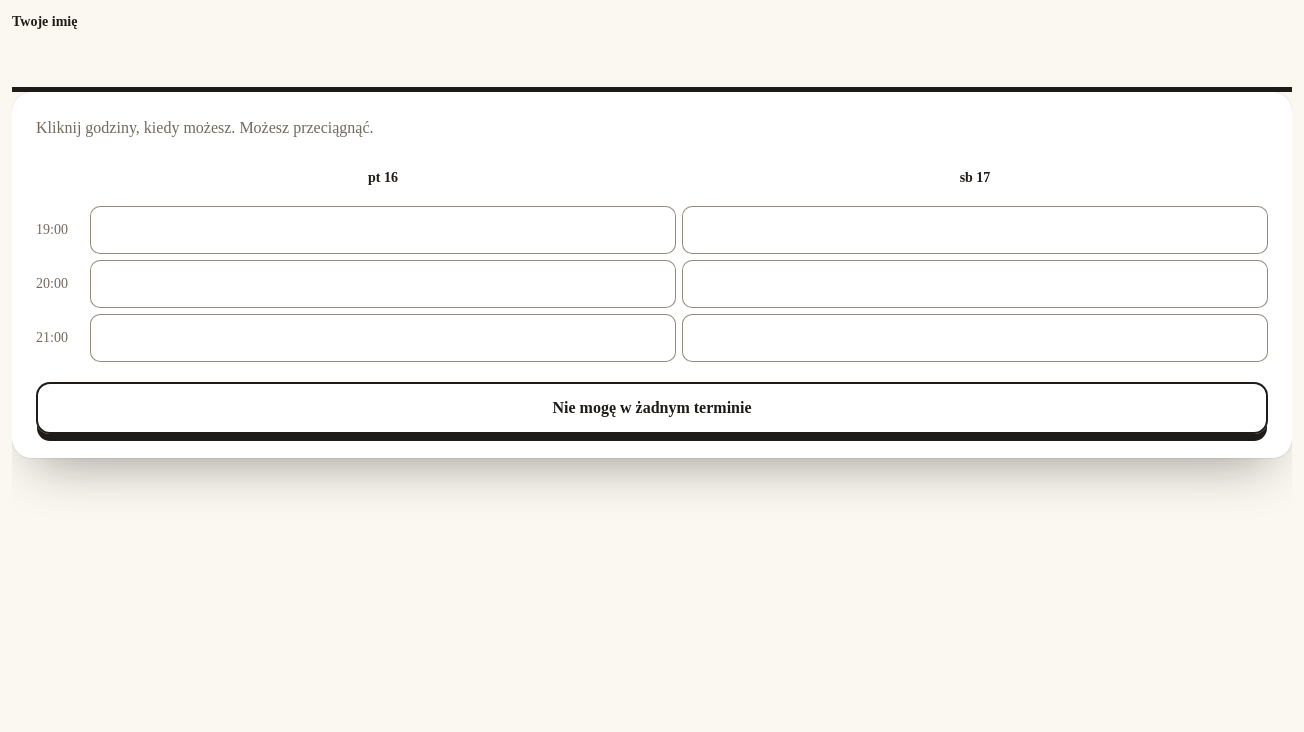
Scenario: the Moje lead and body › tells a device that answered as Bartek that Tak, to ja folds its hours into Ola
Type "Ola" into the field labelled "Twoje imię". click: (652, 66)
box: [12,40,1292,92]
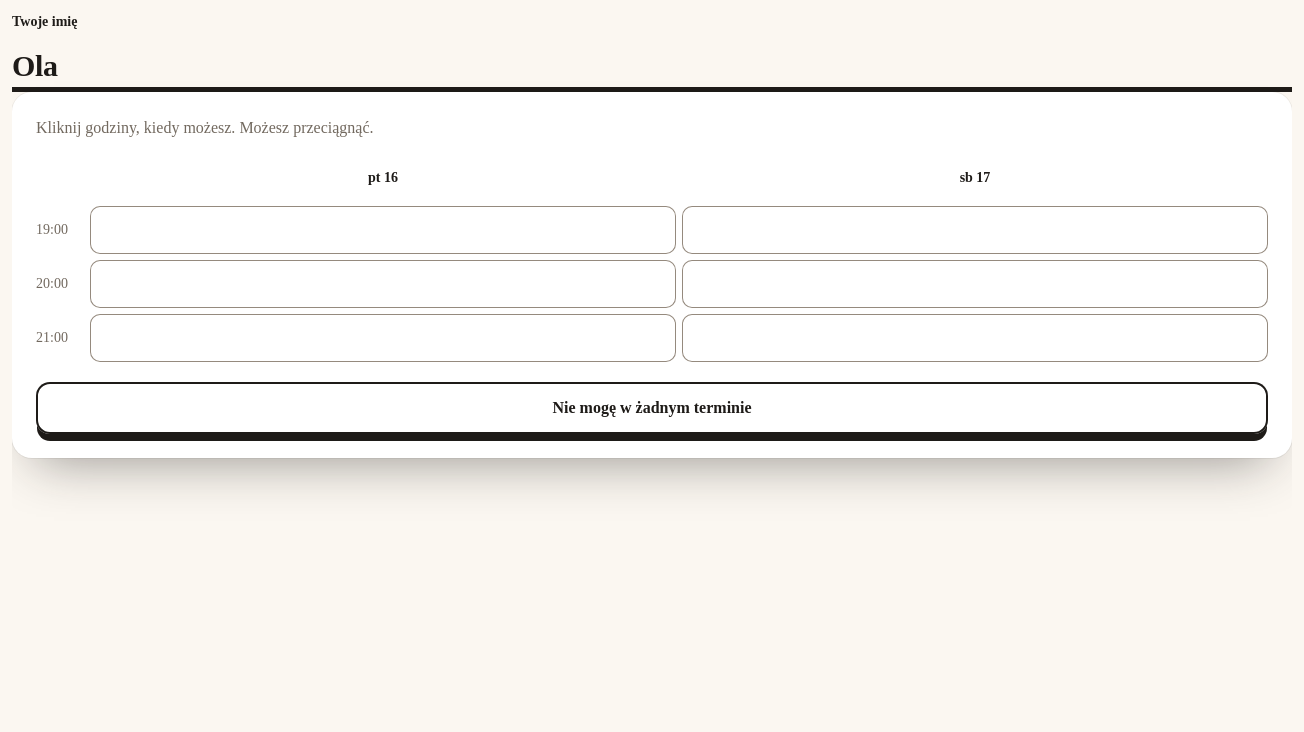
Click the button named "pt 16, 19:00". click: (383, 230)
box: [90,206,676,254]
Wait 500 ms
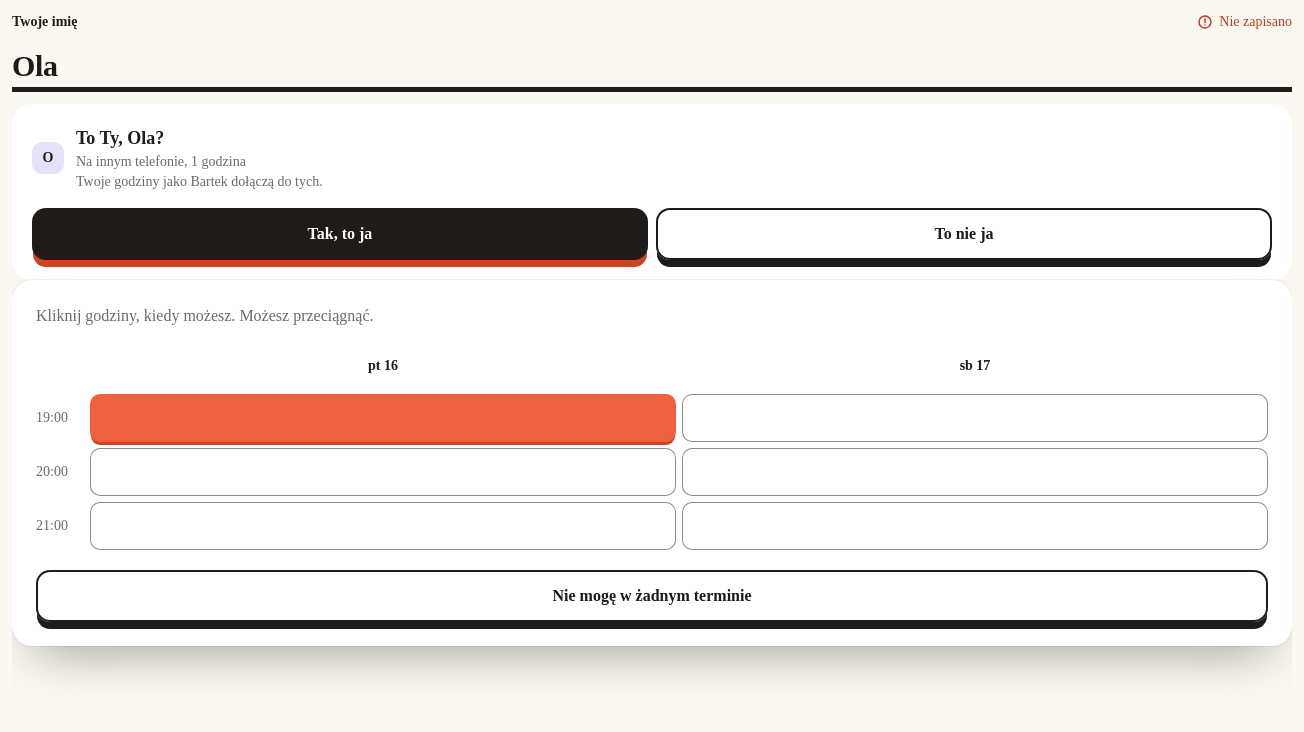
Expected: the element "To Ty, Ola?" shows "Twoje godziny jako Bartek dołączą do tych.", [76,174,323,189]
